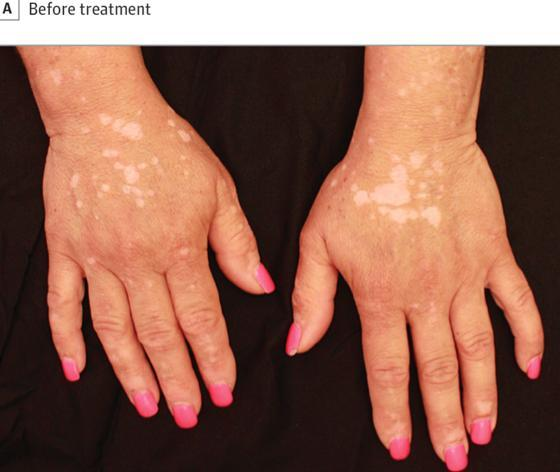vitiligo: (38, 76, 195, 252), (356, 145, 470, 256)
